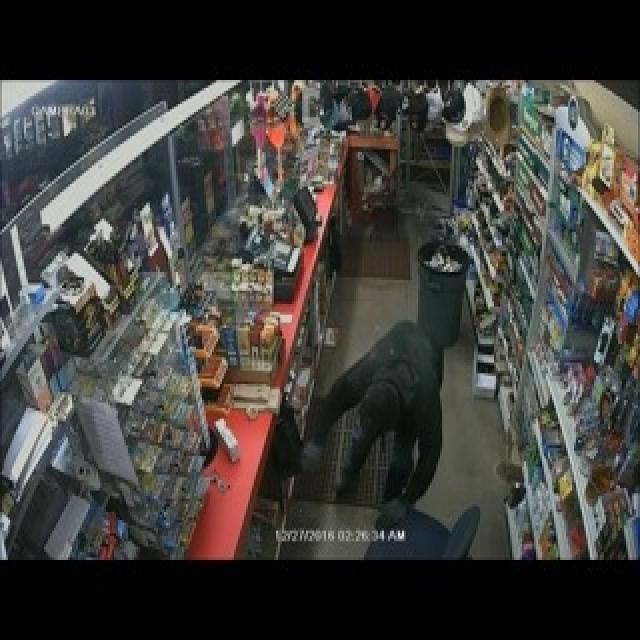thief: (346, 314, 445, 512)
